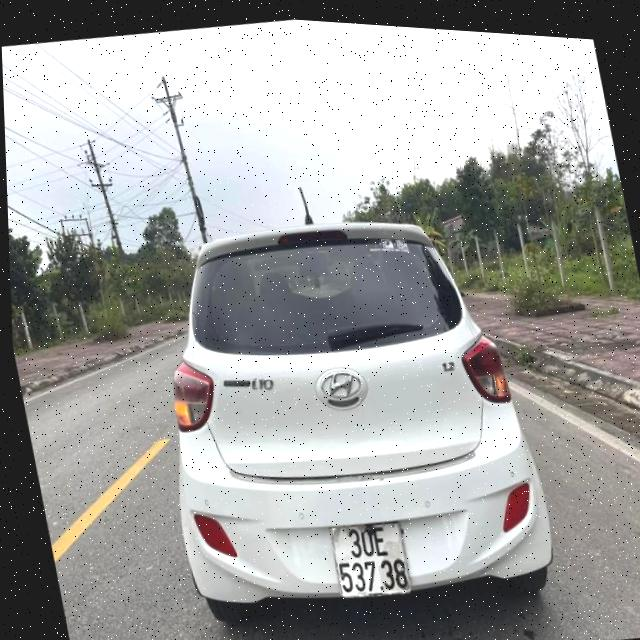car: (128, 180, 560, 640)
plate: (318, 508, 429, 612)
